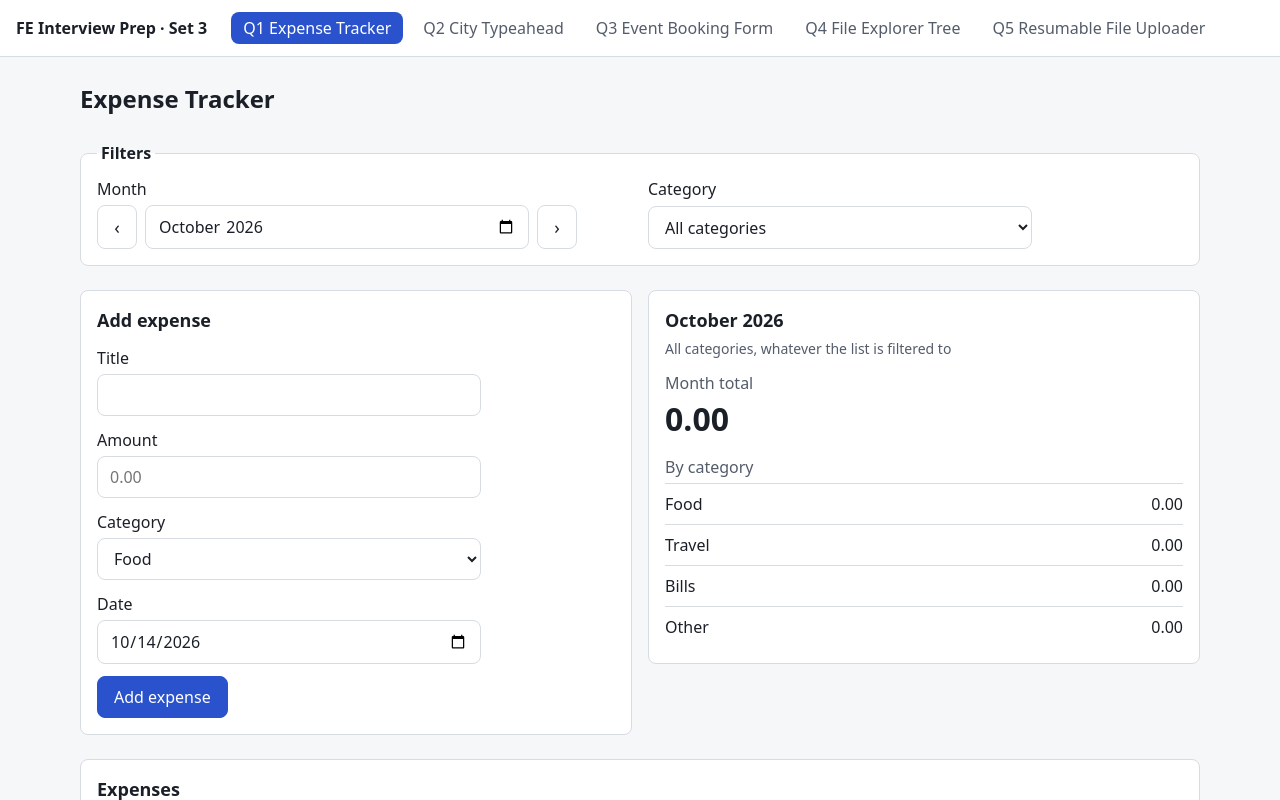
Scenario: ExpensesPage › explains an empty filtered list and offers to show all categories
Type "Lunch" into the field labelled "Title" at (289, 395), box [97,374,481,416]
Type "0.10" into the field labelled "Amount" at (289, 477), box [97,456,481,498]
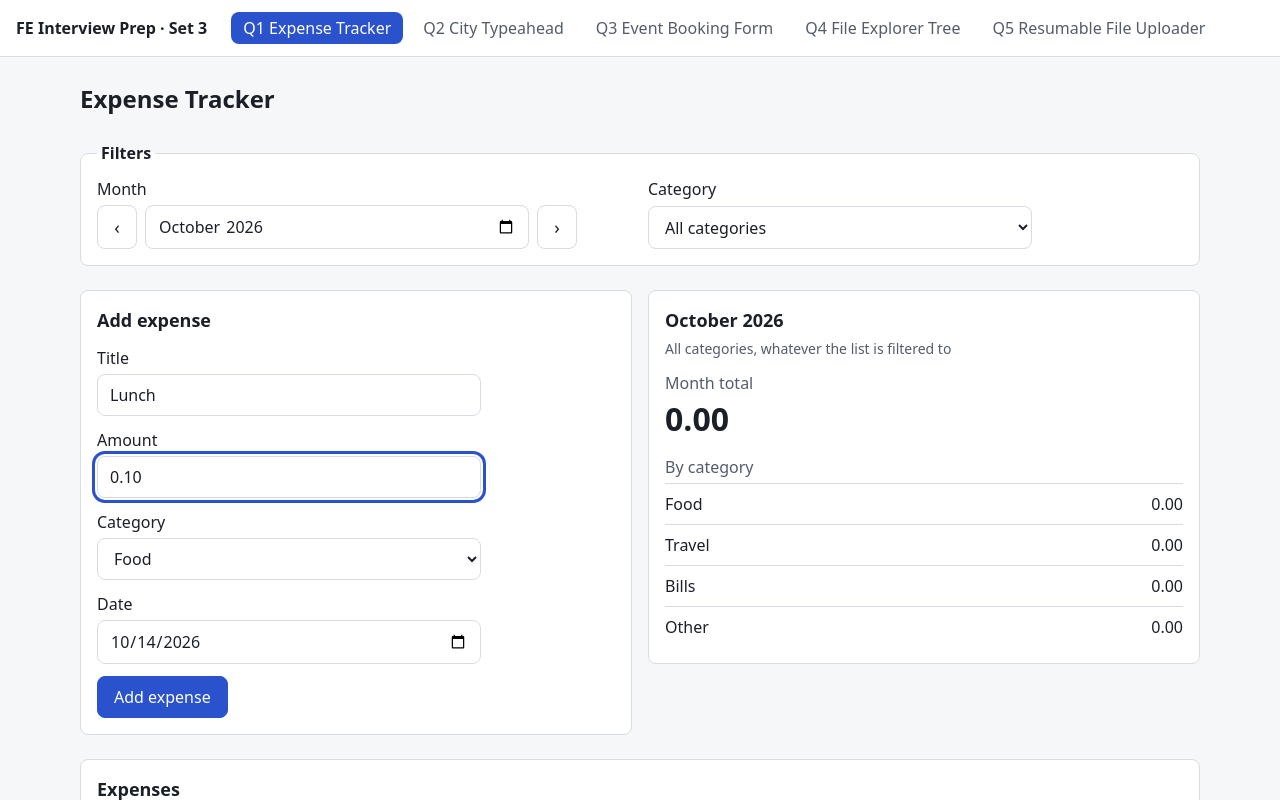
Select "Food" in the dropdown labelled "Category" below "Title" at (289, 559), box [97,538,481,580]
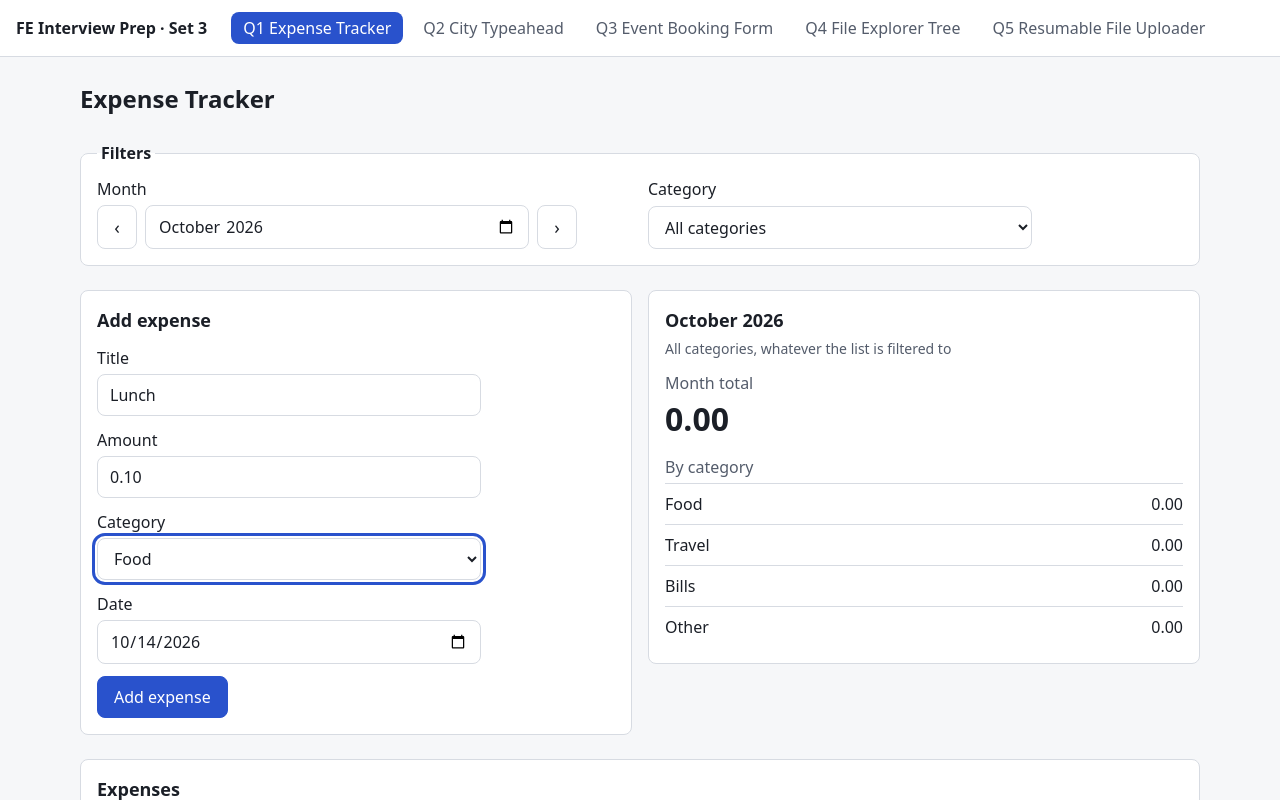
Type "2026-10-03" into the date field labelled "Date" at (289, 642), box [97,620,481,664]
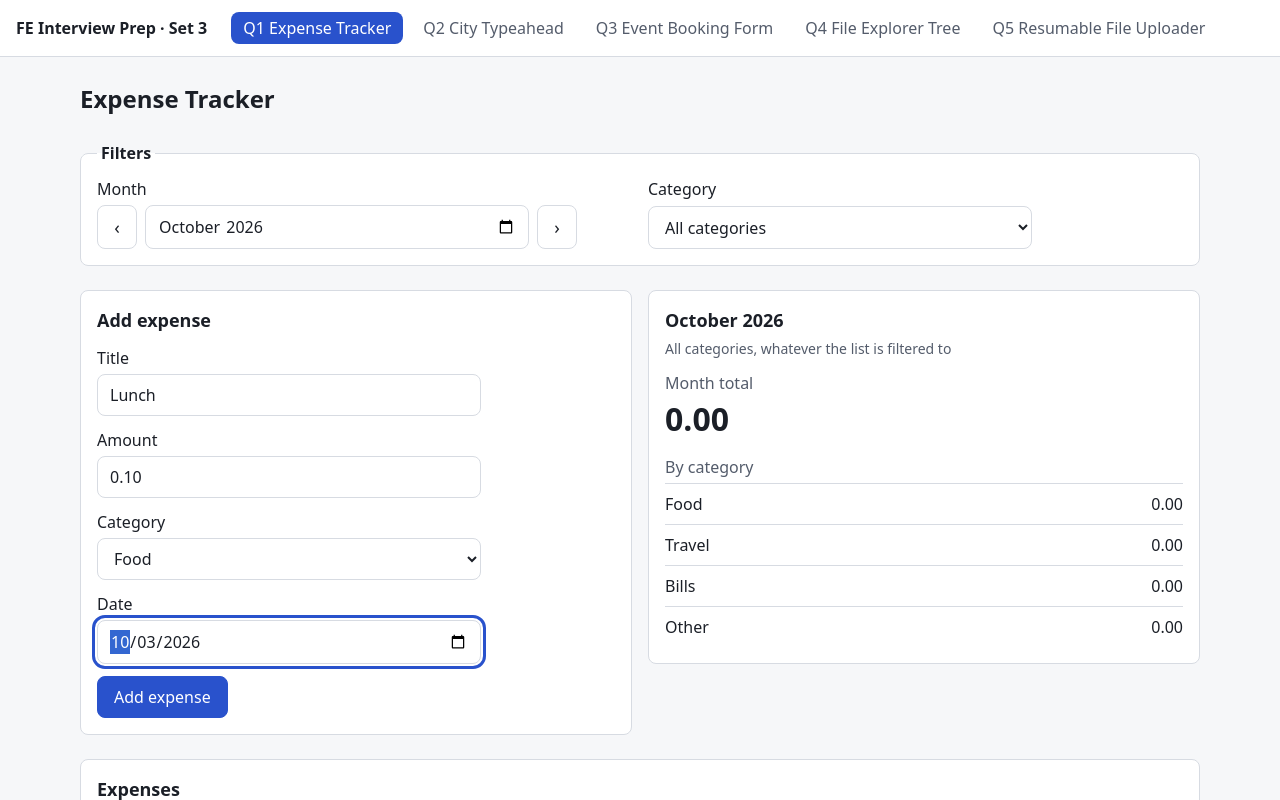
Click the button "Add expense" at (162, 697), box [97,676,228,718]
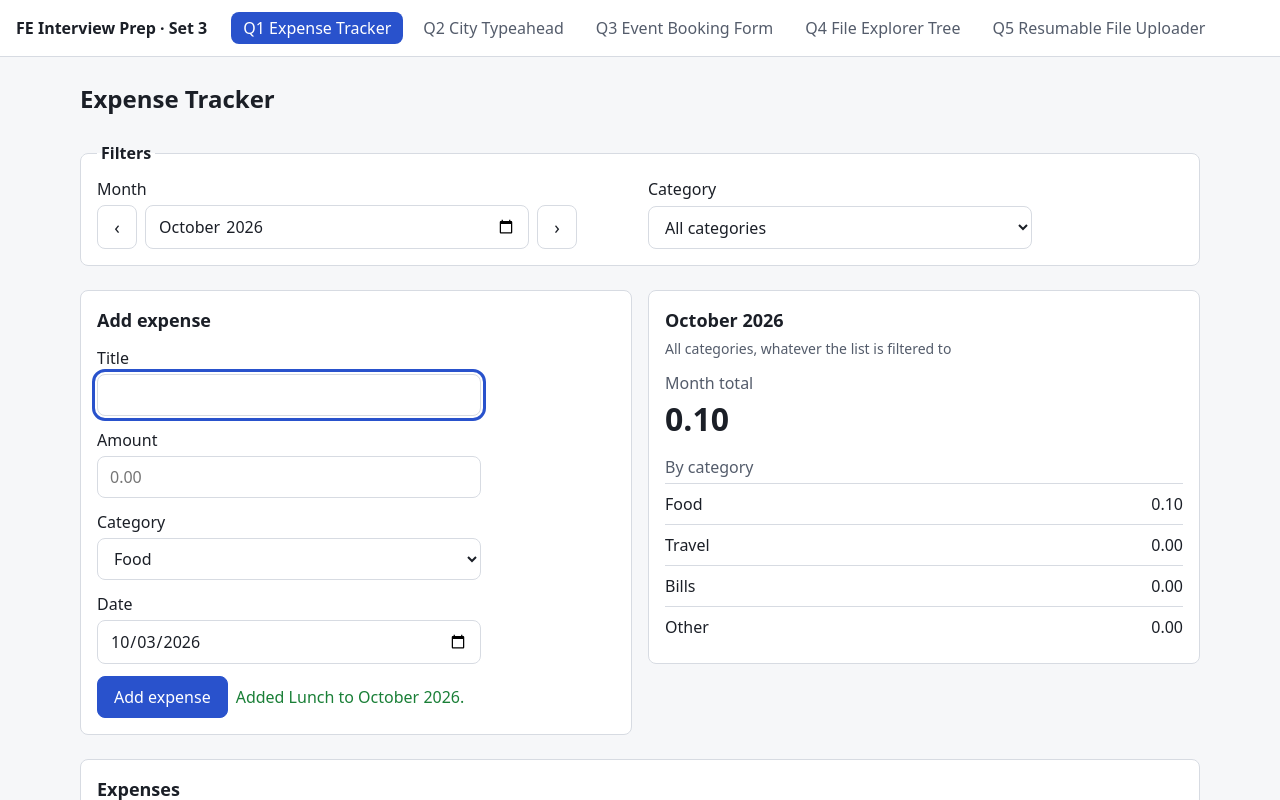
Select "Bills" in the 1st dropdown labelled "Category" at (840, 228), box [648,206,1032,249]
(page scrolled)
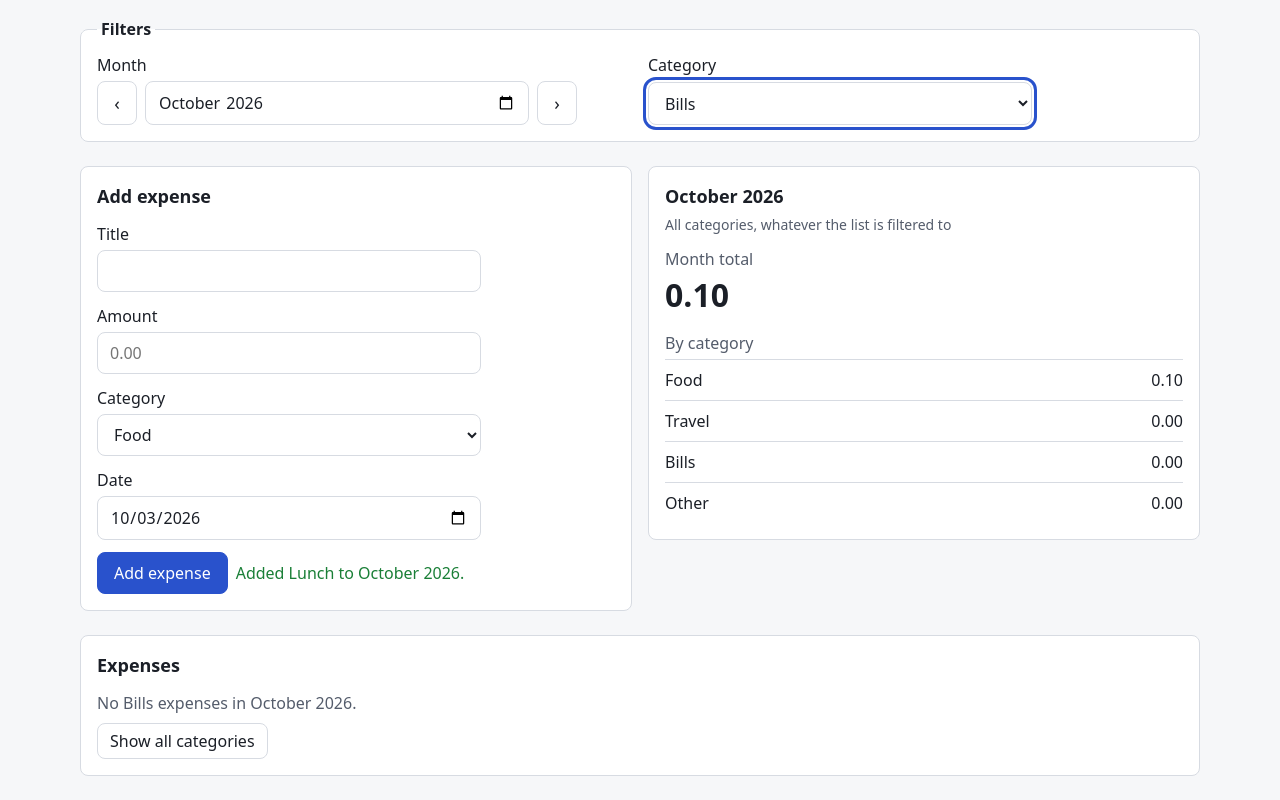
Expected: the text "No Bills expenses in October 2026." is shown, [97,691,356,715]
Click the button "Show all categories" at (182, 741), box [97,723,268,759]
(page scrolled)
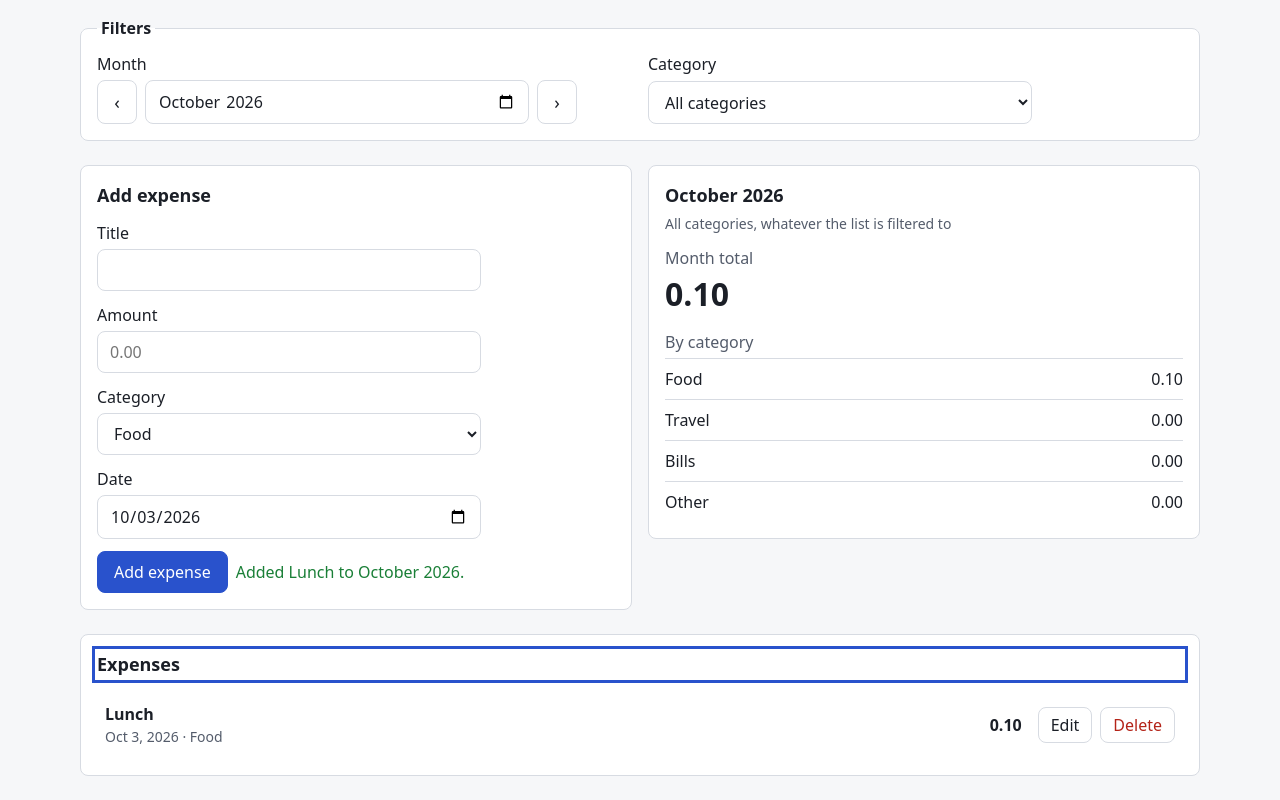
Expected: the button with aria-label "Edit Lunch" is shown, [1038,706,1092,742]
